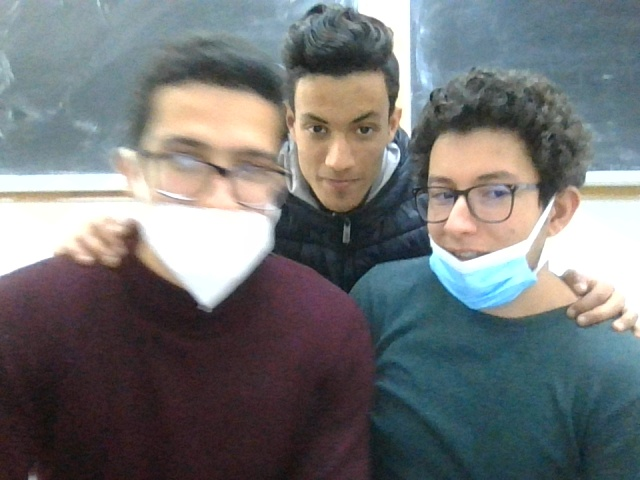mask_weared_incorrect: (405, 70, 598, 326)
without_mask: (278, 12, 402, 220)
